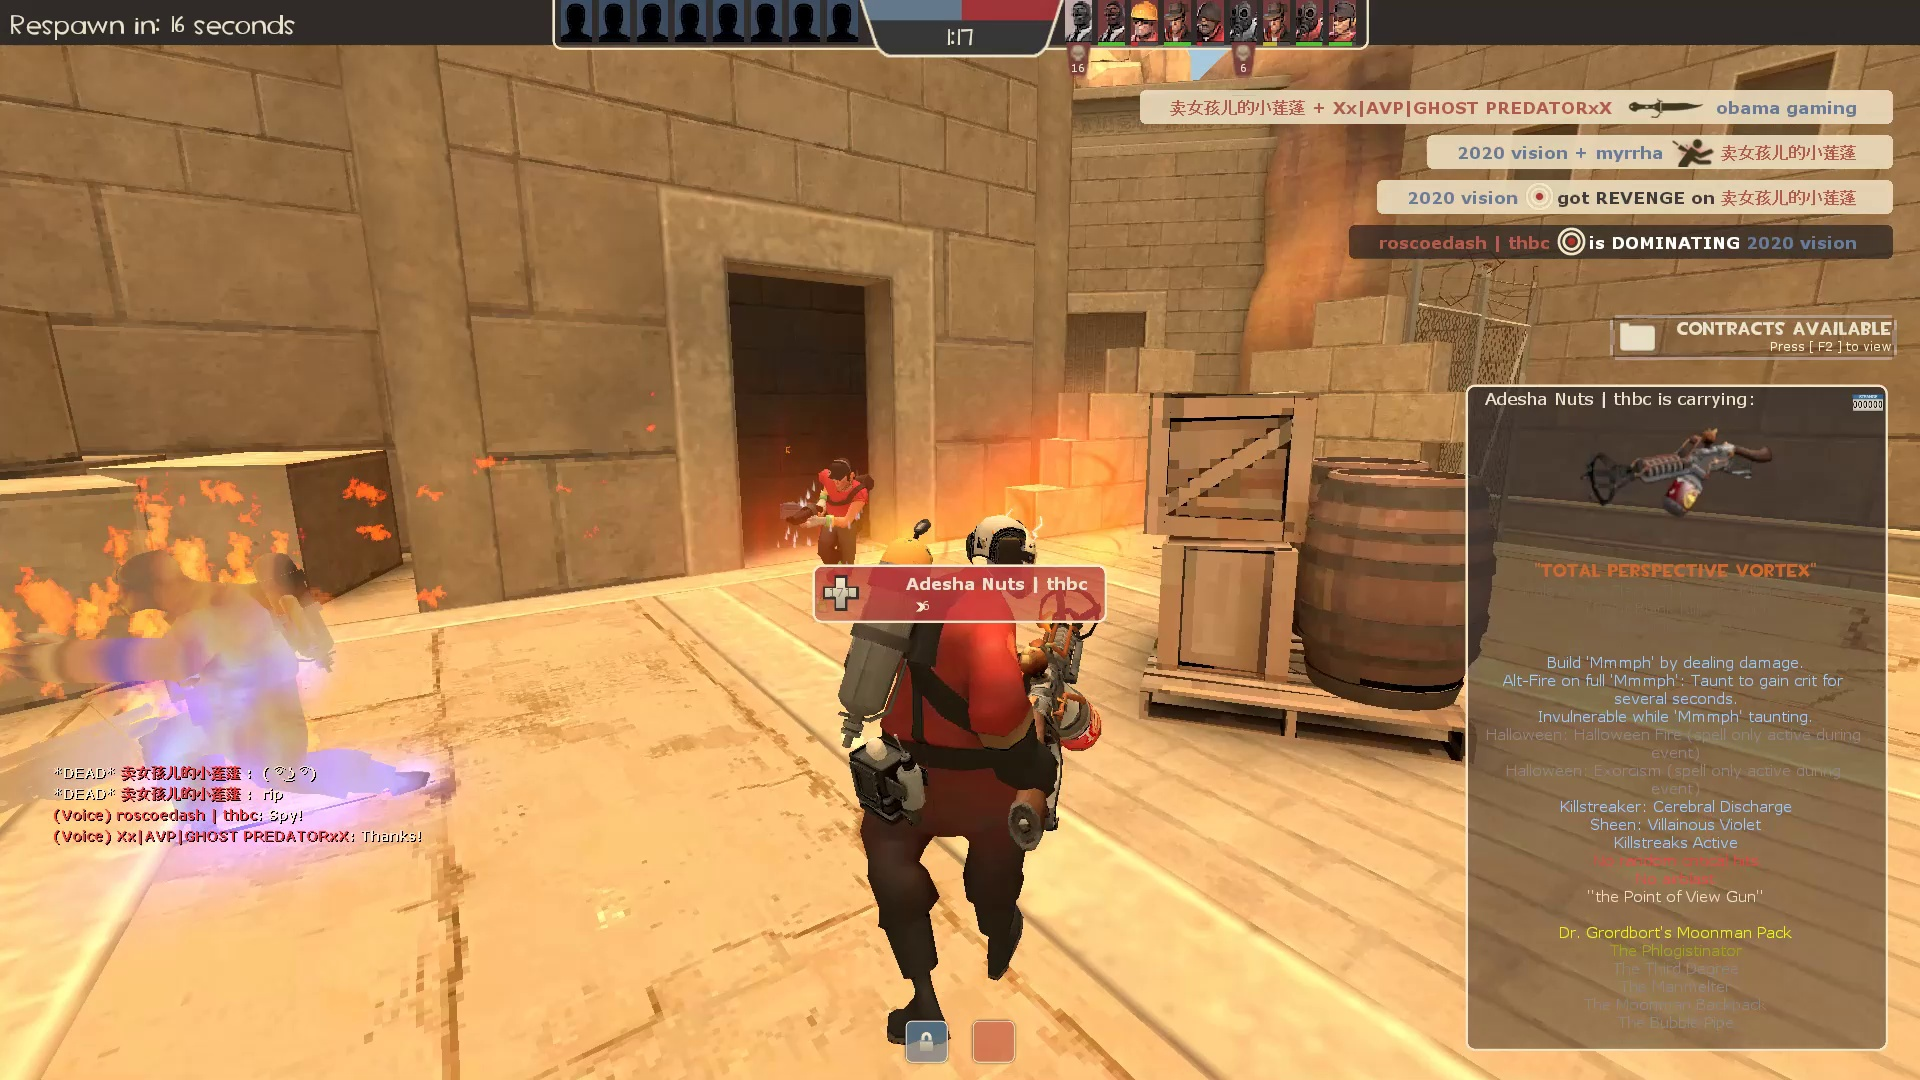blu_pyro: (3, 534, 448, 851)
red_pyro: (829, 505, 1110, 1063)
red_scout: (775, 454, 884, 618)
